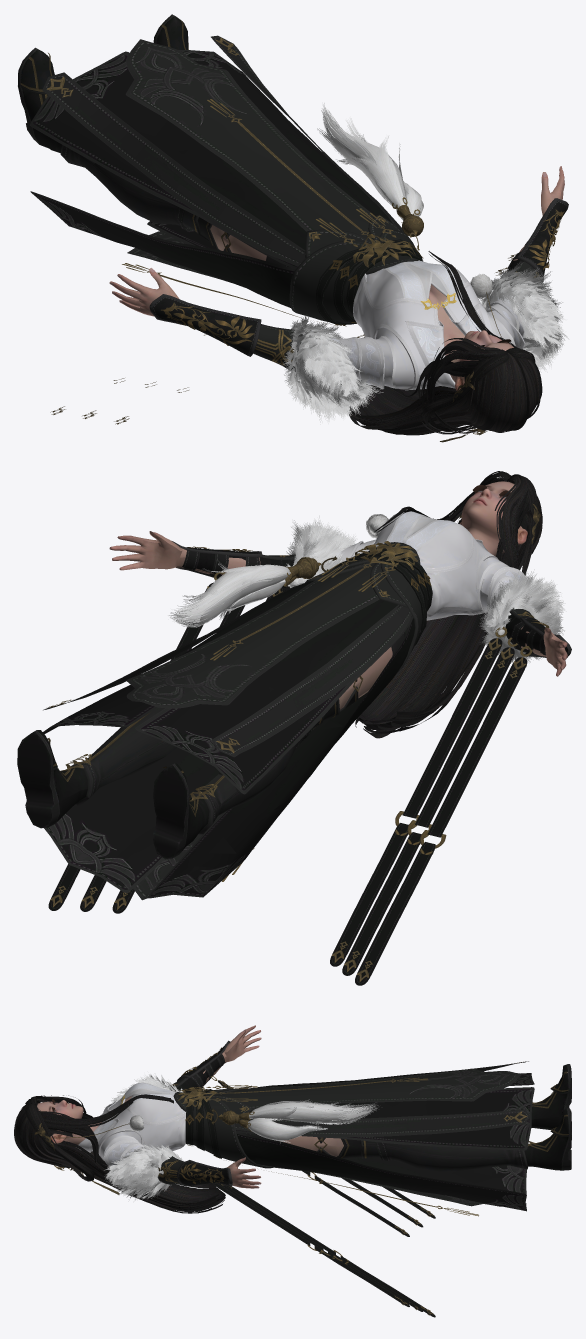
3 views of the same model, one above another, from view 1: azimuth 30°, elevation 25°; view 2: azimuth 150°, elevation 25°; view 3: azimuth 270°, elevation 25° (orthographic). The views are drawn at different scales.
Visible parts, largest first — view 1: baifeng_qun, baifeng_nv_cloth, baifeng_nv_fur, baifeng_hair, baifeng_pants, baifeng_wan, baifeng_hair_top, baifeng_nv_hands, baifeng_nv_body, baifeng_nv_leg, baifeng_nv_face, baifeng_nv_fashi; view 2: baifeng_qun, baifeng_nv_cloth, baifeng_pants, baifeng_hair, baifeng_nv_fur, baifeng_nv_hands, baifeng_wan, baifeng_nv_face, baifeng_nv_leg; view 3: baifeng_qun, baifeng_nv_cloth, baifeng_pants, baifeng_hair, baifeng_nv_fur, baifeng_wan, baifeng_nv_hands, baifeng_hair_top, baifeng_nv_face, baifeng_nv_leg.
Part boxes in pixels (x1,y1,x2,y2): baifeng_qun: (29,35,423,326); baifeng_nv_cloth: (50,103,540,424); baifeng_nv_fur: (282,263,569,424); baifeng_hair: (349,251,535,435); baifeng_pants: (18,14,290,267); baifeng_wan: (149,198,568,356); baifeng_hair_top: (469,350,542,432); baifeng_nv_hands: (109,166,564,316); baifeng_nv_body: (428,284,464,380); baifeng_nv_leg: (210,225,266,260); baifeng_nv_face: (453,330,513,390); baifeng_nv_fashi: (440,273,501,442); baifeng_qun: (43,541,432,900); baifeng_nv_cloth: (48,511,534,985); baifeng_pants: (17,619,415,858); baifeng_hair: (355,471,542,738); baifeng_nv_fur: (286,515,566,666); baifeng_nv_hands: (109,531,567,676); baifeng_wan: (172,541,571,658); baifeng_nv_face: (459,481,527,556); baifeng_nv_leg: (339,647,392,709); baifeng_qun: (173,1061,534,1216); baifeng_nv_cloth: (76,1076,435,1317); baifeng_pants: (242,1064,571,1171); baifeng_hair: (25,1094,225,1213); baifeng_nv_fur: (104,1074,183,1200); baifeng_wan: (177,1040,232,1186); baifeng_nv_hands: (203,1025,261,1188); baifeng_hair_top: (14,1103,69,1167); baifeng_nv_face: (37,1100,83,1144); baifeng_nv_leg: (280,1136,343,1156).
Size of the model in its own units: 103 by 65.06 by 166.
